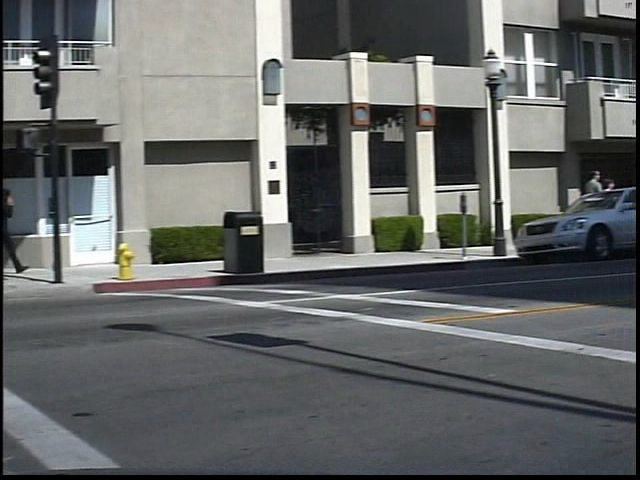person: (589, 166, 613, 242)
